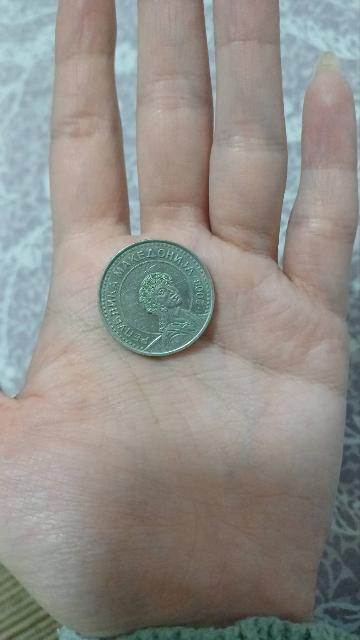coin: (93, 233, 218, 357)
